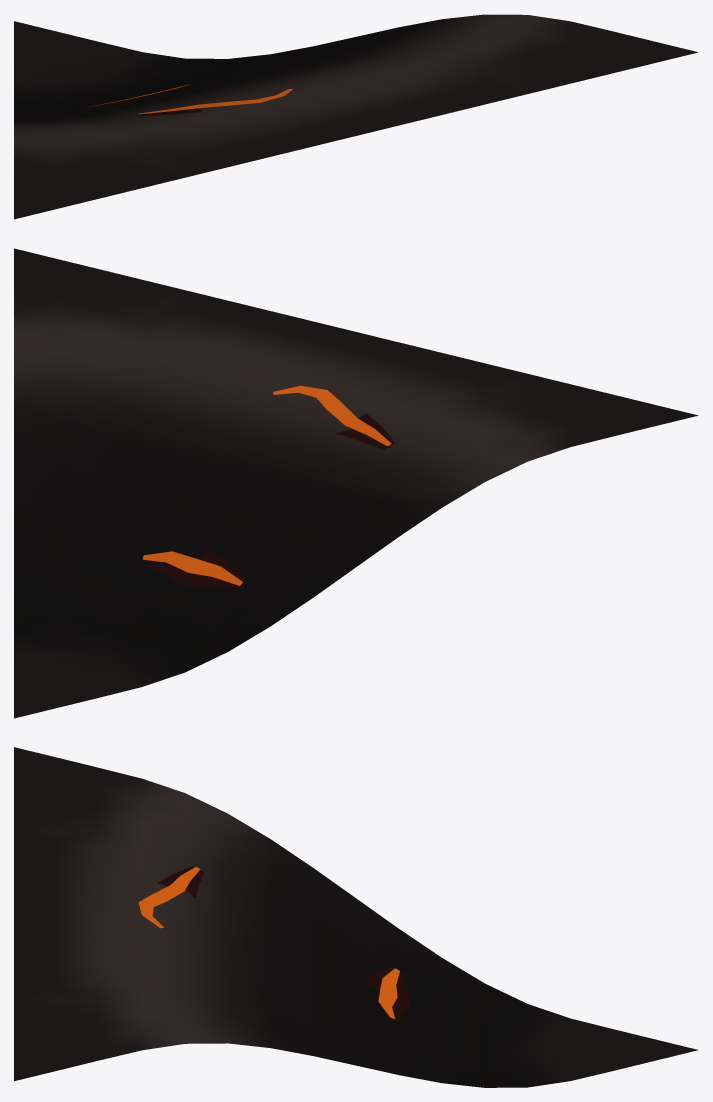
Rendered from MODULE_LAVA_RAMP_SIDE_CRACKS.fbx.
The picture shows the model from 3 angles, top to bottom: view 1: azimuth 30°, elevation 25°; view 2: azimuth 150°, elevation 25°; view 3: azimuth 270°, elevation 25°; orthographic projection.
Visible parts, largest first — view 1: MODULE_LAVA_RAMP_SIDE_CRACKS__export, MODULE_LAVA_RAMP_SIDE_CRACKS_DECOR__export; view 2: MODULE_LAVA_RAMP_SIDE_CRACKS__export, MODULE_LAVA_RAMP_SIDE_CRACKS_DECOR__export; view 3: MODULE_LAVA_RAMP_SIDE_CRACKS__export, MODULE_LAVA_RAMP_SIDE_CRACKS_DECOR__export.
Boxes of the visible parts, <box> form: MODULE_LAVA_RAMP_SIDE_CRACKS__export: <box>14,14,698,219</box>; MODULE_LAVA_RAMP_SIDE_CRACKS_DECOR__export: <box>86,84,292,116</box>; MODULE_LAVA_RAMP_SIDE_CRACKS__export: <box>14,248,698,718</box>; MODULE_LAVA_RAMP_SIDE_CRACKS_DECOR__export: <box>141,385,394,589</box>; MODULE_LAVA_RAMP_SIDE_CRACKS__export: <box>14,747,698,1087</box>; MODULE_LAVA_RAMP_SIDE_CRACKS_DECOR__export: <box>138,866,410,1021</box>.
Size of the model in its own units: 100 by 18.95 by 86.6.
